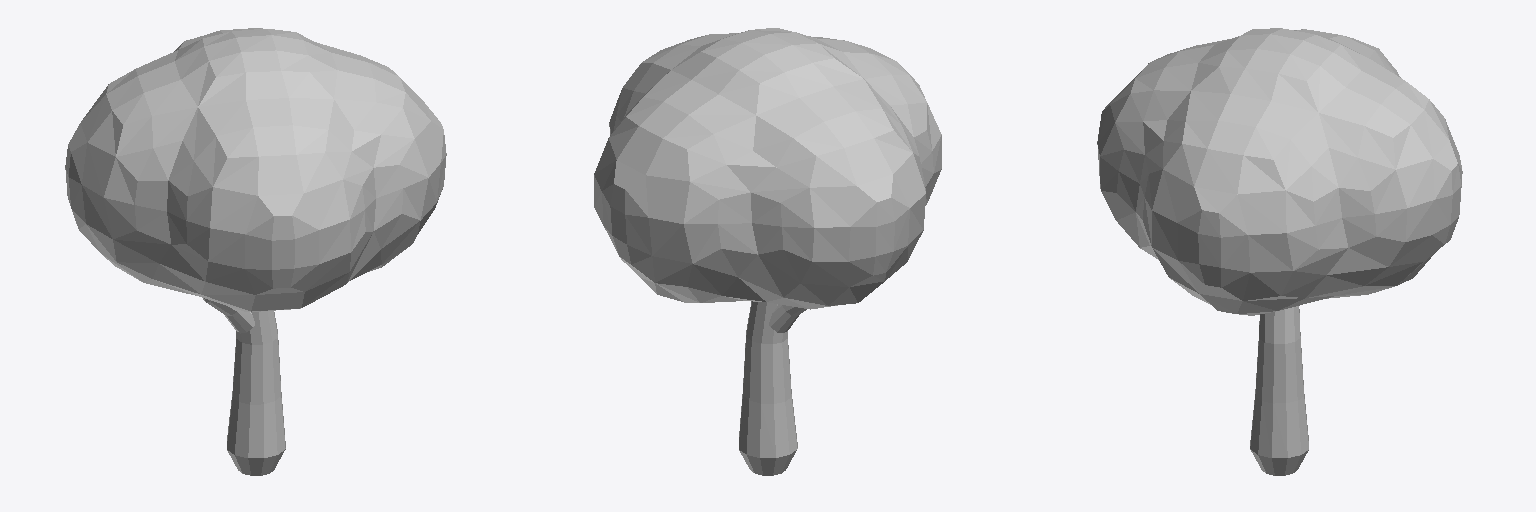
The model's file is tree_small.obj.
3 renders of one model, left to right at view 1: azimuth 30°, elevation 25°; view 2: azimuth 150°, elevation 25°; view 3: azimuth 270°, elevation 25°, orthographic.
Parts seen in each view (by area): view 1: tree_small; view 2: tree_small; view 3: tree_small.
Part boxes in pixels (x1,y1,x2,y2): tree_small: (65, 28, 446, 475); tree_small: (594, 28, 941, 475); tree_small: (1097, 28, 1462, 475).
Bounding box in the file's own units: 2.84 × 3.64 × 2.84.